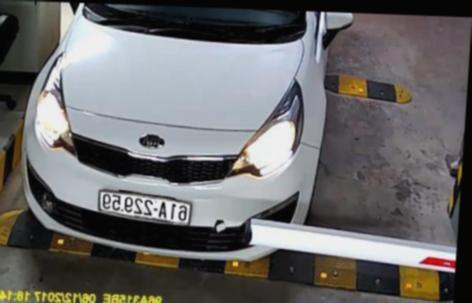License_Plate: (93, 190, 194, 225)
